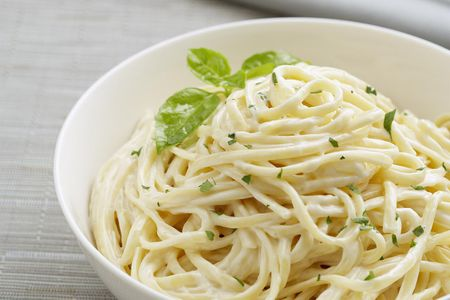chopped lettuce: (155, 40, 288, 144)
plain spaghetti: (94, 89, 449, 300)
